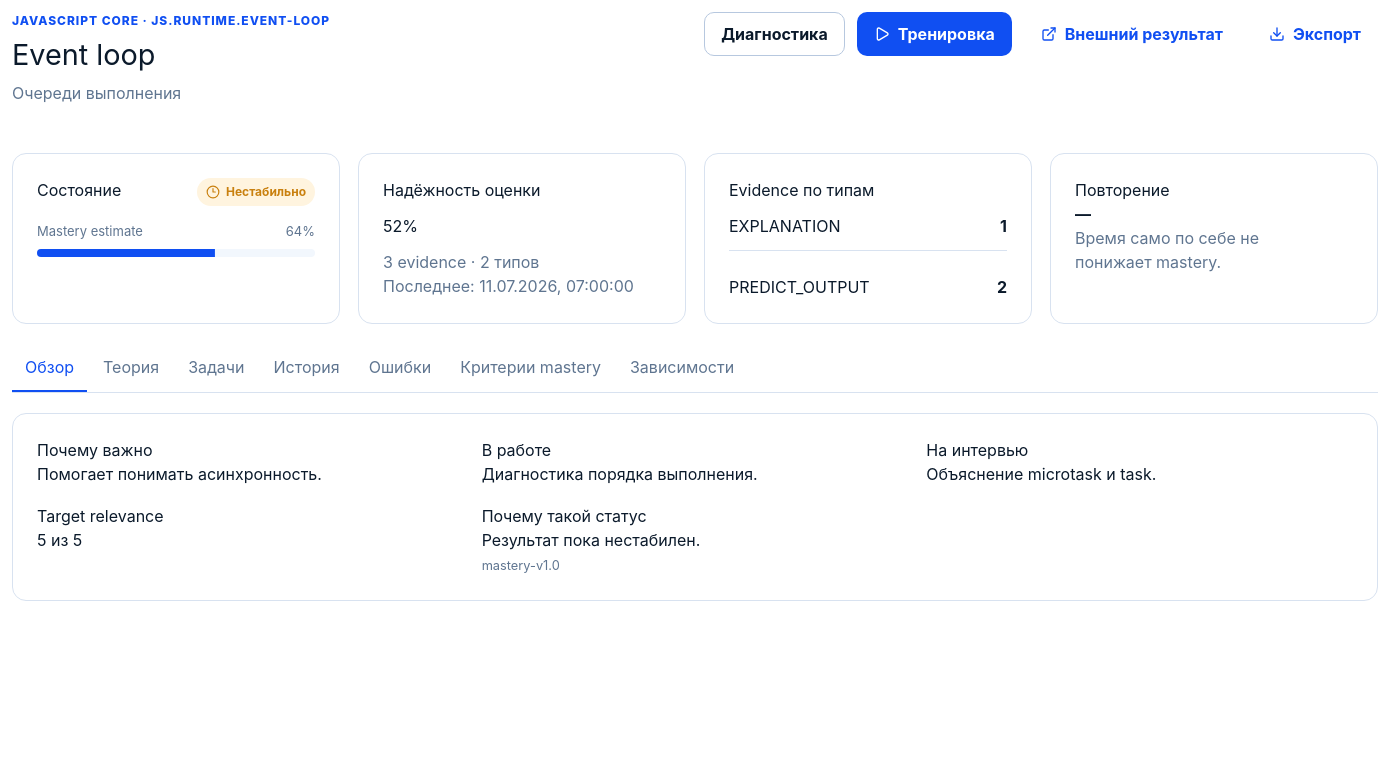
TopicDetail › renders real misconceptions and explainable mastery gates
Check: the text "Результат пока нестабилен." is shown, box left=482, top=530, right=700, bottom=550
Check: the text "PREDICT_OUTPUT" is shown, box left=729, top=275, right=870, bottom=299
Click the tab "Ошибки": {"x": 400, "y": 368} left=356, top=344, right=444, bottom=392
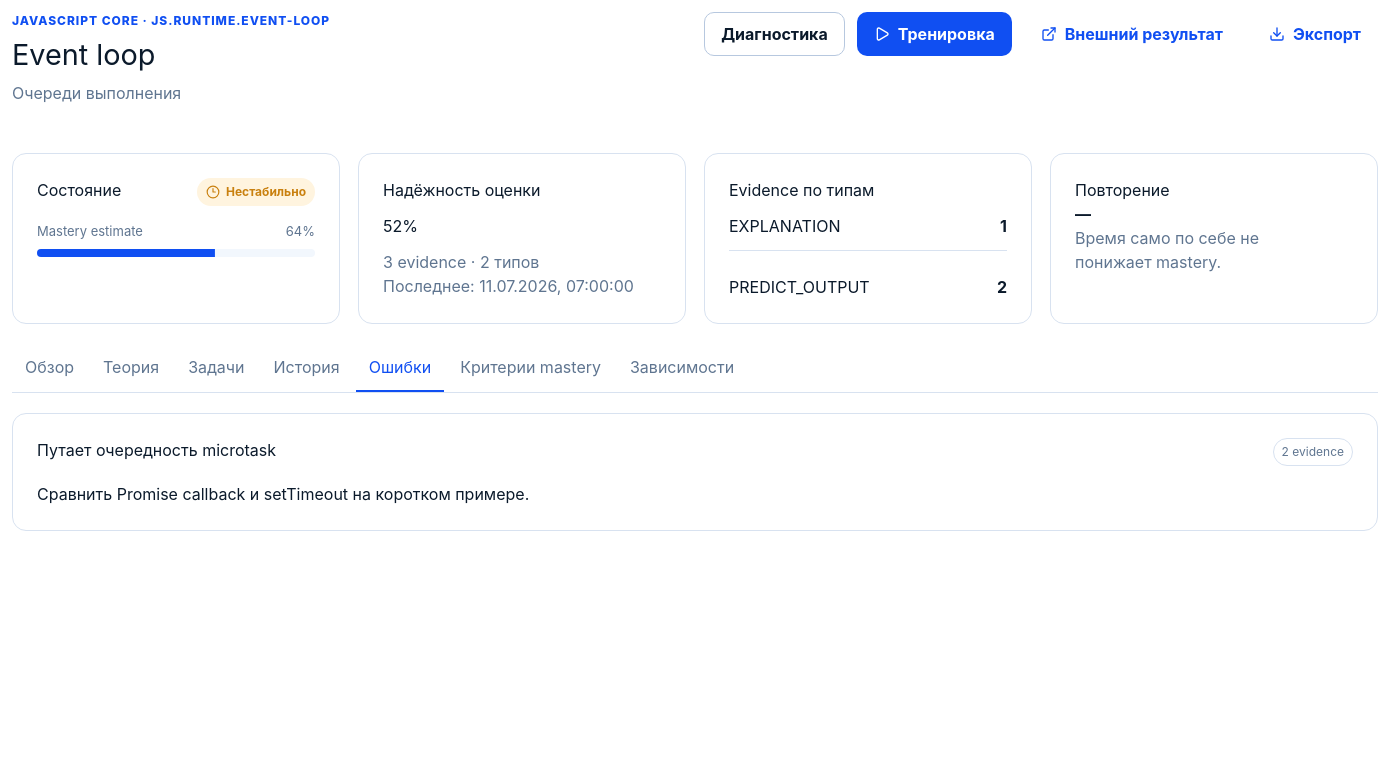
Check: the heading "Путает очередность microtask" is shown, box left=37, top=438, right=276, bottom=462
Check: the text "Сравнить Promise callback и setTimeout на коротком примере." is shown, box left=37, top=484, right=529, bottom=504
Click the tab "Критерии mastery": {"x": 531, "y": 368} left=447, top=344, right=614, bottom=392
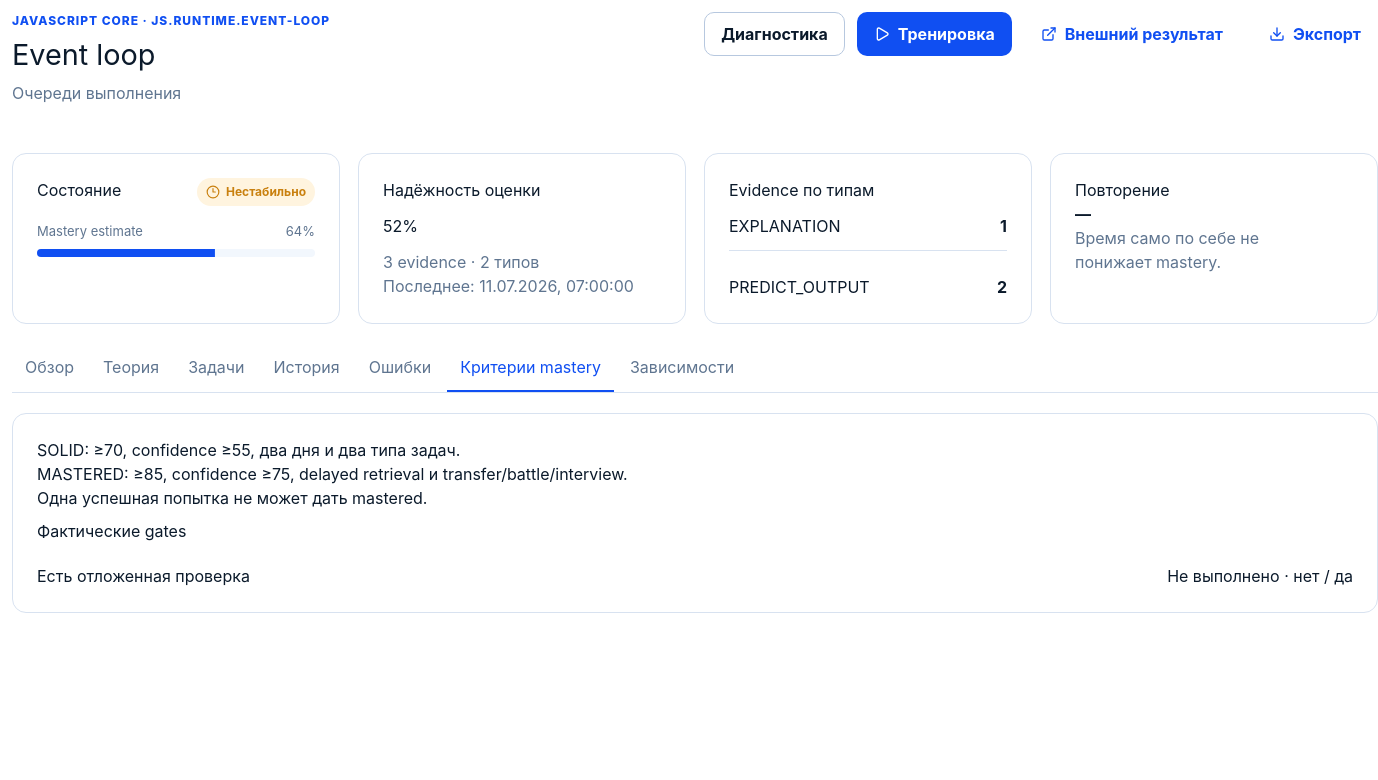
Check: the text "Есть отложенная проверка" is shown, box left=37, top=564, right=250, bottom=588
Check: the text "Не выполнено · нет / да" is shown, box left=1167, top=564, right=1353, bottom=588
